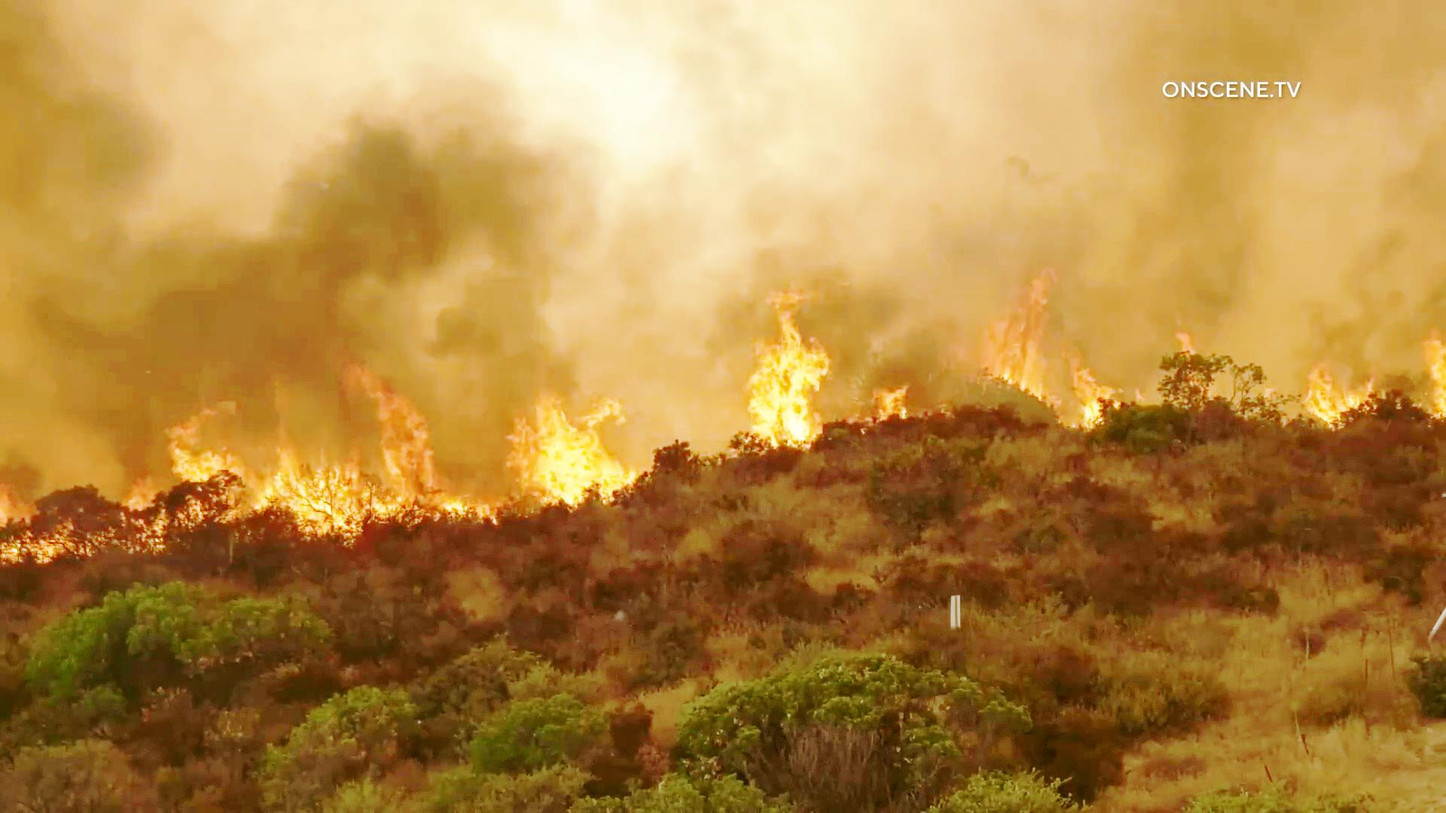fire: (135, 358, 439, 515), (488, 364, 632, 520), (729, 296, 840, 463), (979, 275, 1055, 399), (1292, 364, 1376, 426), (1422, 339, 1446, 410)
smoke: (81, 113, 575, 372)
